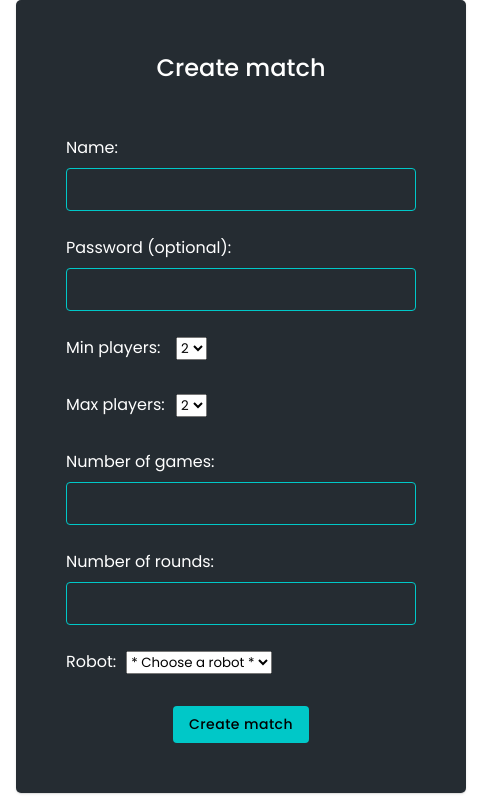
Scenario: Configuracion de partida test › 2. New match without name
This screenshot has width=483, height=800.
Type "UWU" into the password field with test id "password".
click(241, 290); type("UWU")  # box [66,268,416,311]
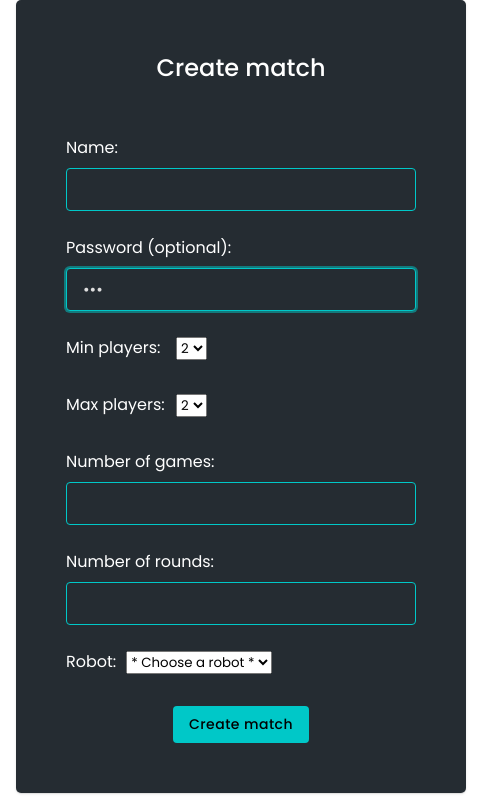
Select "2" in the dropdown with test id "minPlayers" at (192, 348), box [176,337,207,360]
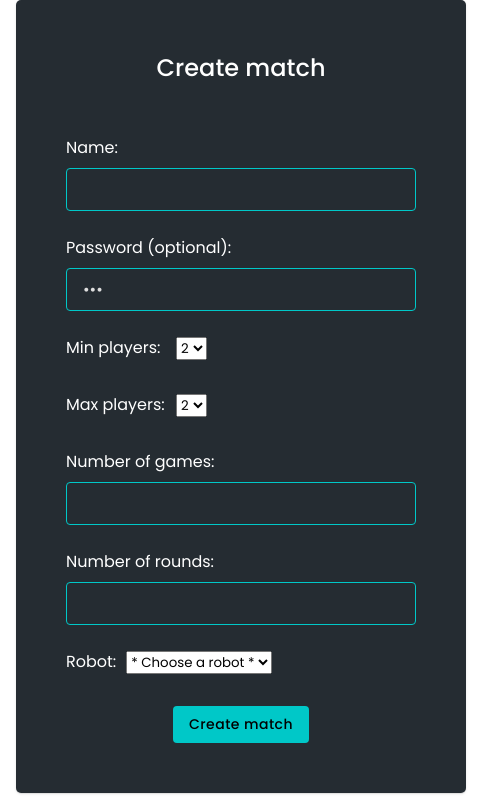
Select "2" in the dropdown with test id "maxPlayers" at (192, 406), box [176,394,207,417]
Type "2" into the field with test id "nGames".
click(241, 504); type("2")  # box [66,482,416,525]
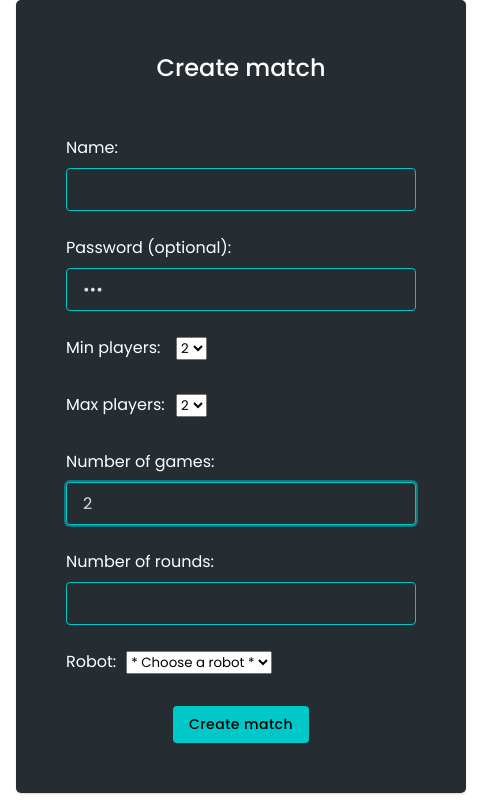
Type "5" into the field with test id "nRounds".
click(241, 604); type("5")  # box [66,582,416,625]
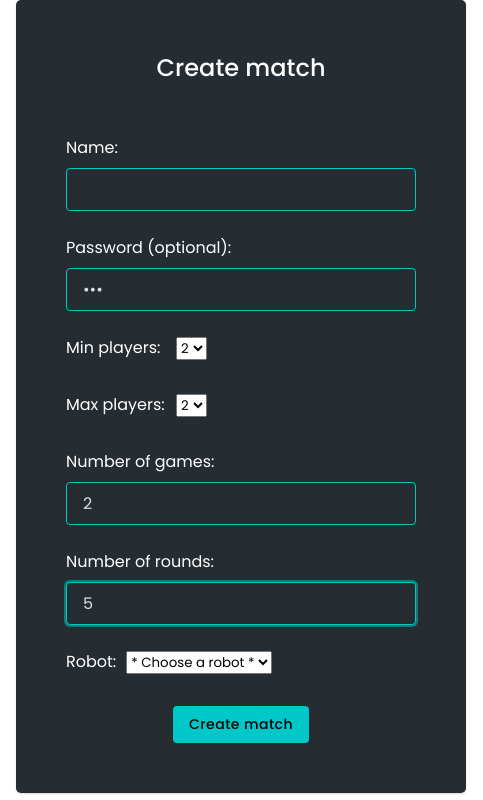
Select "Soyunrobot" in the dropdown with test id "nameRobot" at (199, 662), box [126,651,272,674]
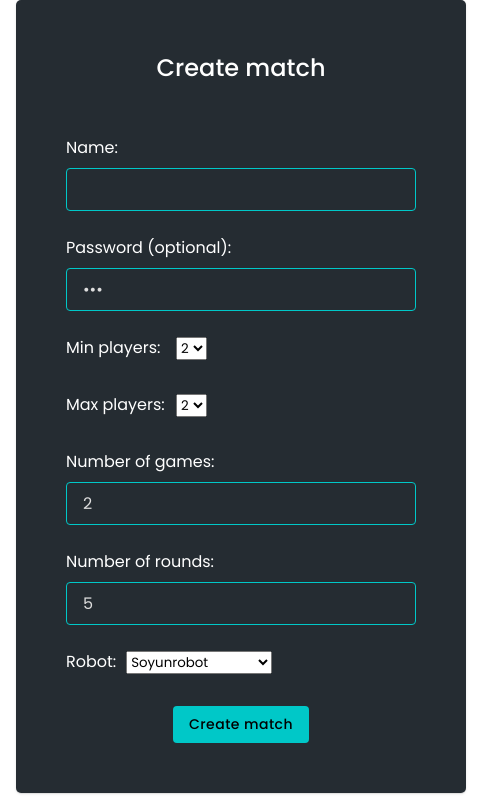
Click the button with test id "submit".
click(241, 724)  # box [173,706,309,743]
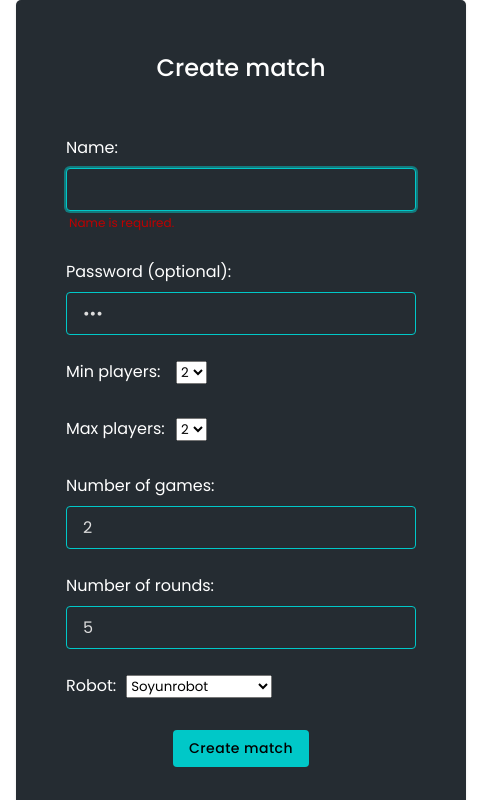
Expected: the text with test id "alertError" reads "Name is required.", [69,214,174,231]
